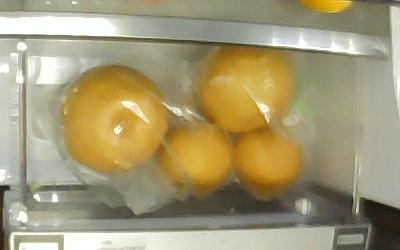pear_vinyl: (60, 65, 168, 175), (196, 44, 293, 132), (159, 123, 234, 197), (234, 130, 301, 196)
